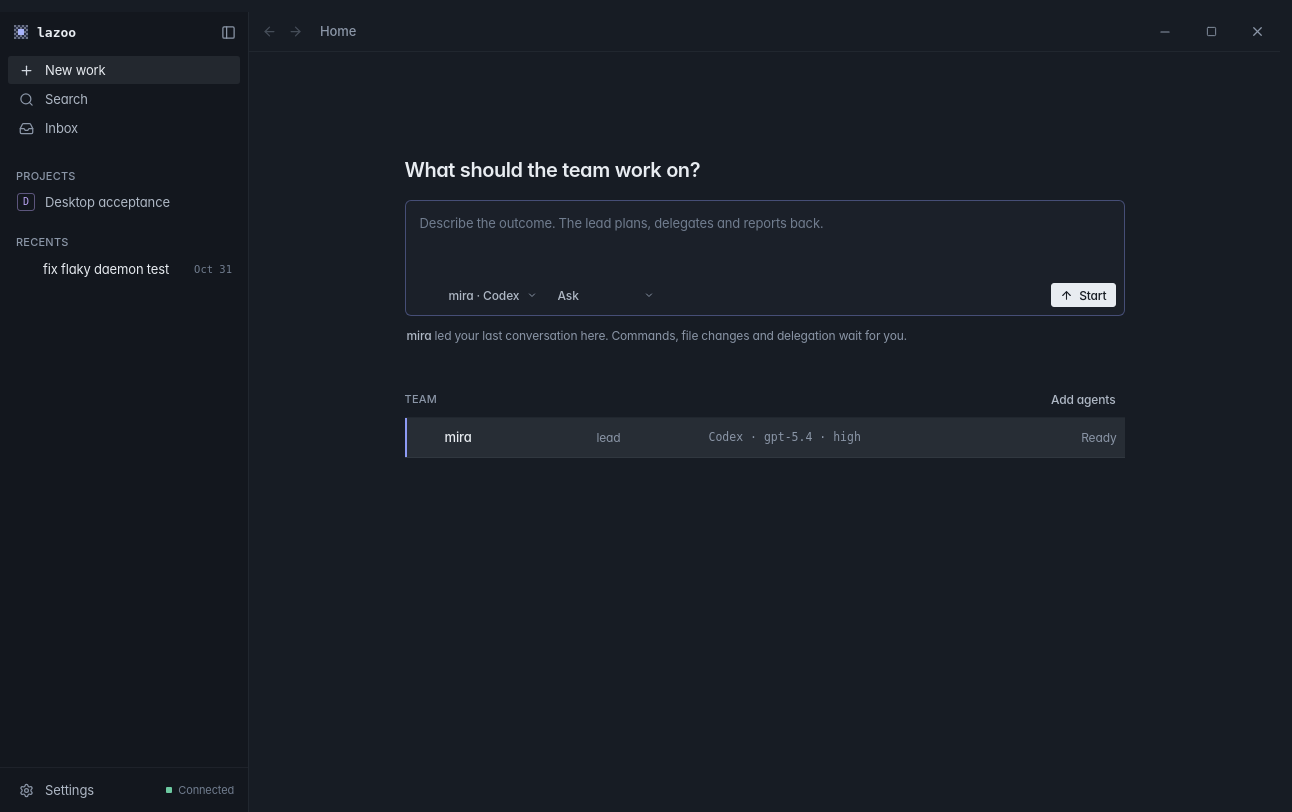
Test: conversation › a viewable session opens the native view once with measured dimensions
Click the text "fix flaky daemon test" at {"x": 114, "y": 269}, box [43,260,185,278]
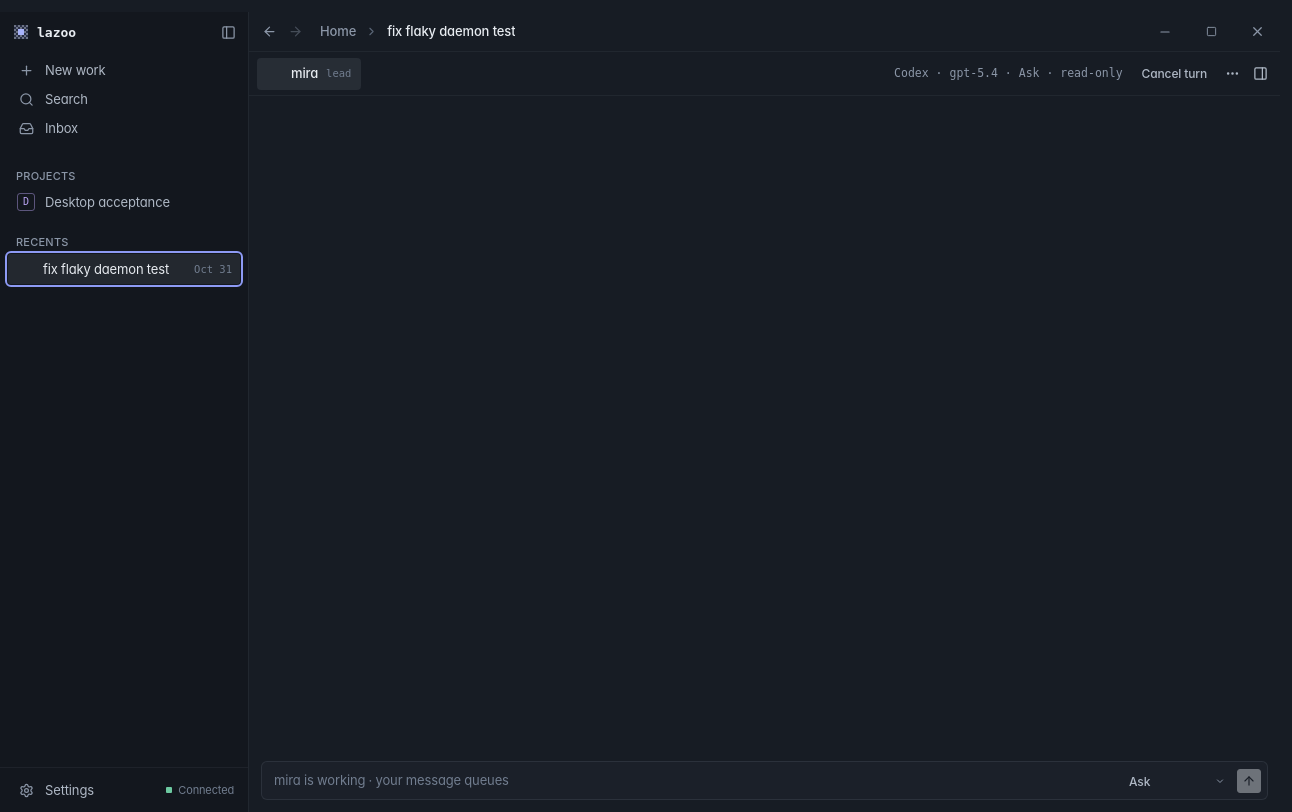
Result: the text "Codex · gpt-5.4 · Ask · read-only" is shown at [894,64,1123,83]
